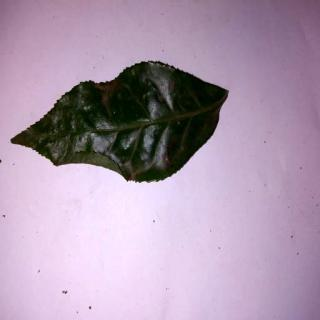Bird Eye Spot: (12, 60, 230, 184)
